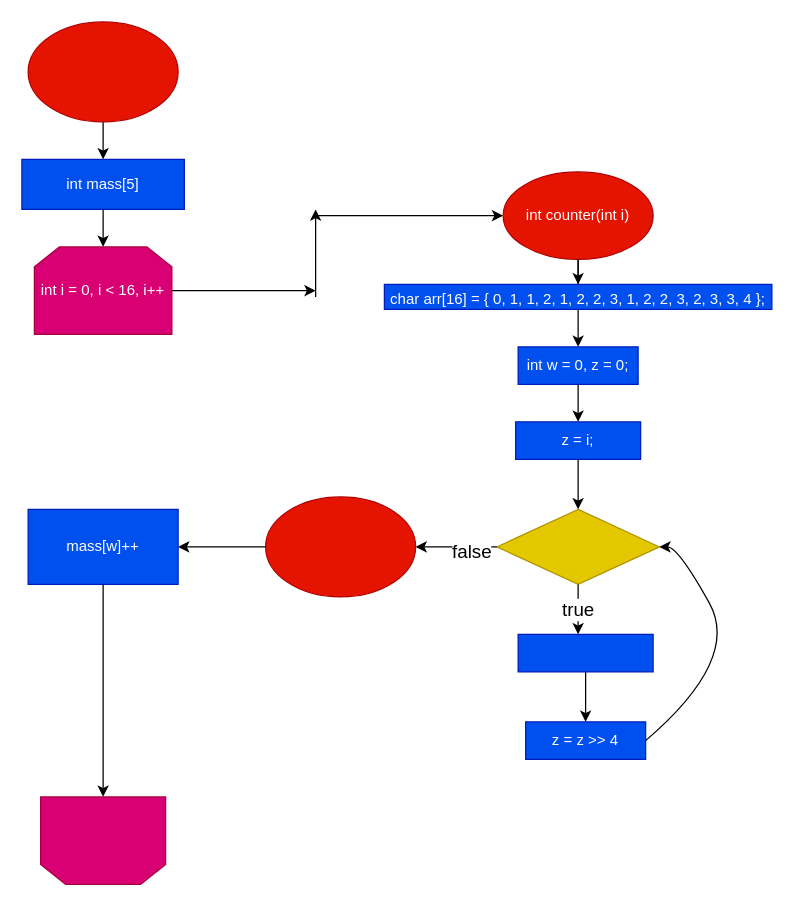
Some shapes in this 794 by 906 pixel diagram are drawn without their labels. The centre of each missing label's shape, as x and y in pixels:
"int main()" belongs at (x=102, y=71).
"return w" belongs at (x=340, y=546).
"w = w + arr[z & 15]" belongs at (x=585, y=652).
"z > 0" belongs at (x=577, y=546).
